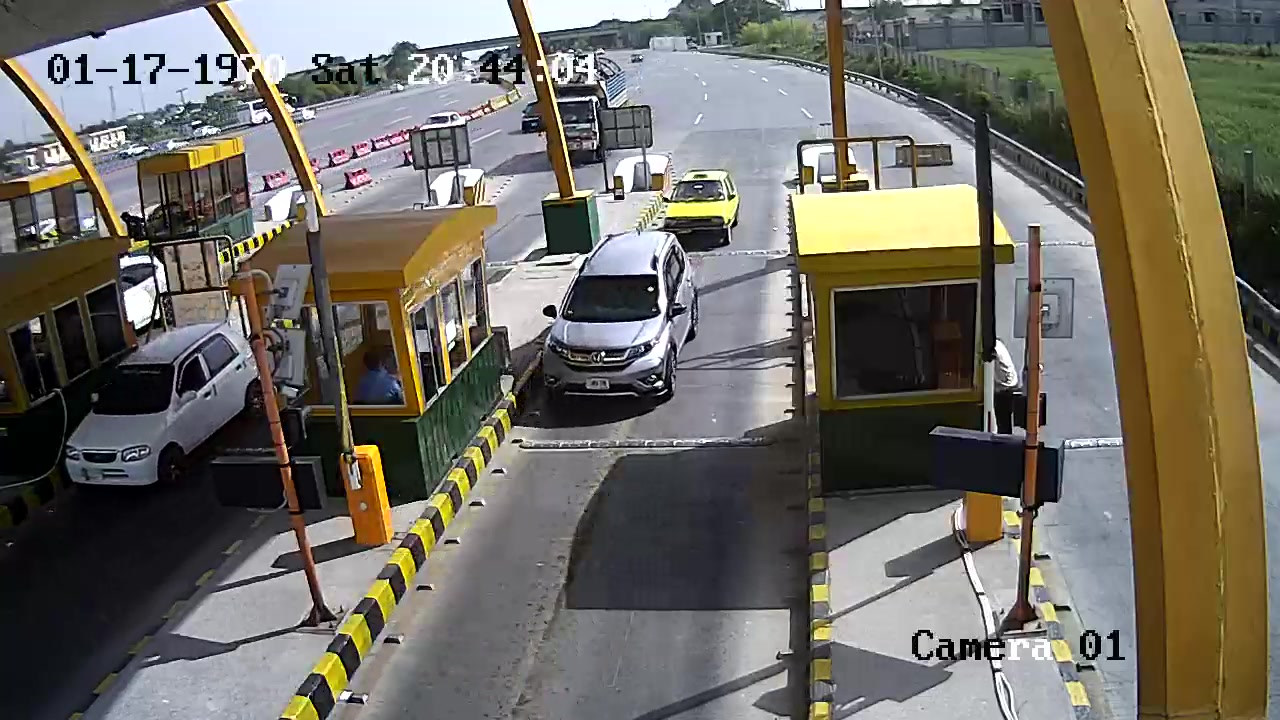F1: (537, 228, 704, 399)
